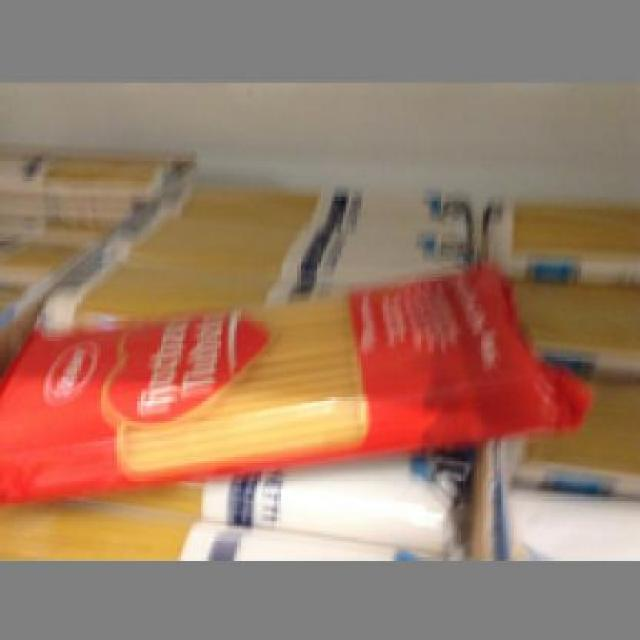Pasta: (0, 269, 586, 500)
